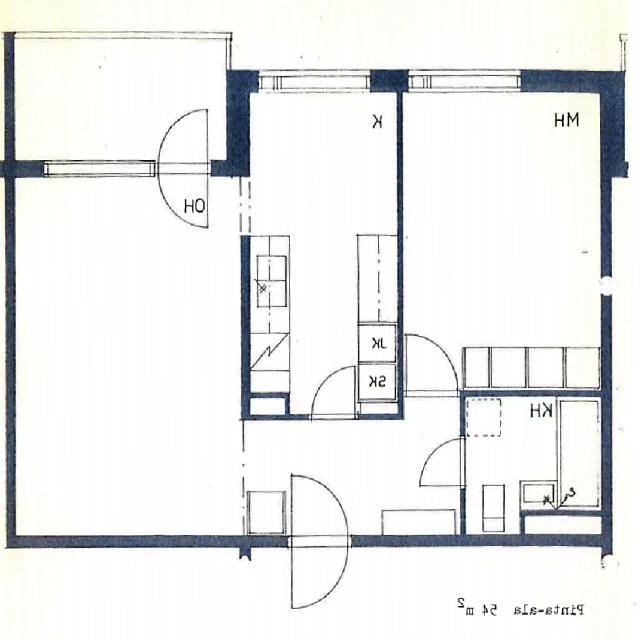door: (292, 535, 349, 609), (292, 472, 349, 546), (158, 160, 209, 232), (158, 104, 209, 175), (407, 333, 457, 395), (415, 437, 466, 486), (312, 366, 354, 420)
